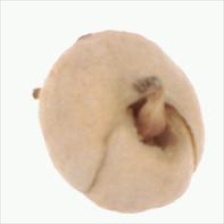L3: (125, 91, 187, 152)
L4: (38, 31, 204, 213)
